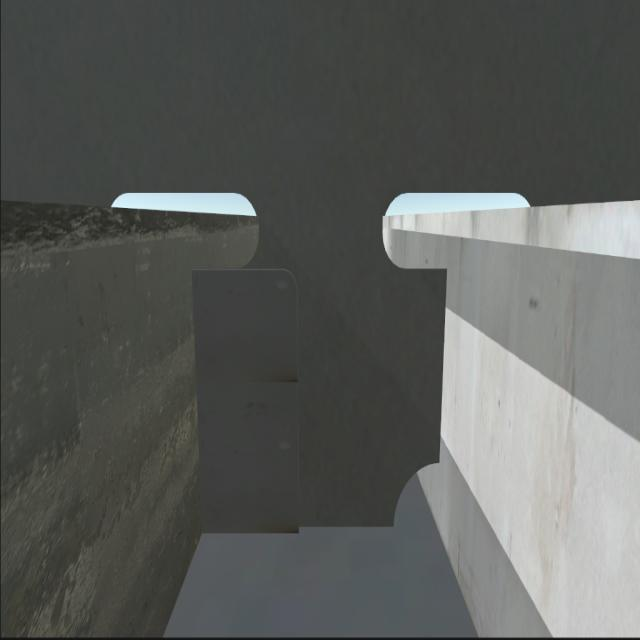fillet_hole: (392, 456, 440, 531)
fillet_yong_jeop_jang: (196, 518, 402, 536)
longi_yong_jeop_jang: (187, 268, 211, 536), (438, 266, 452, 466)
plate_CP05: (200, 269, 304, 537)
